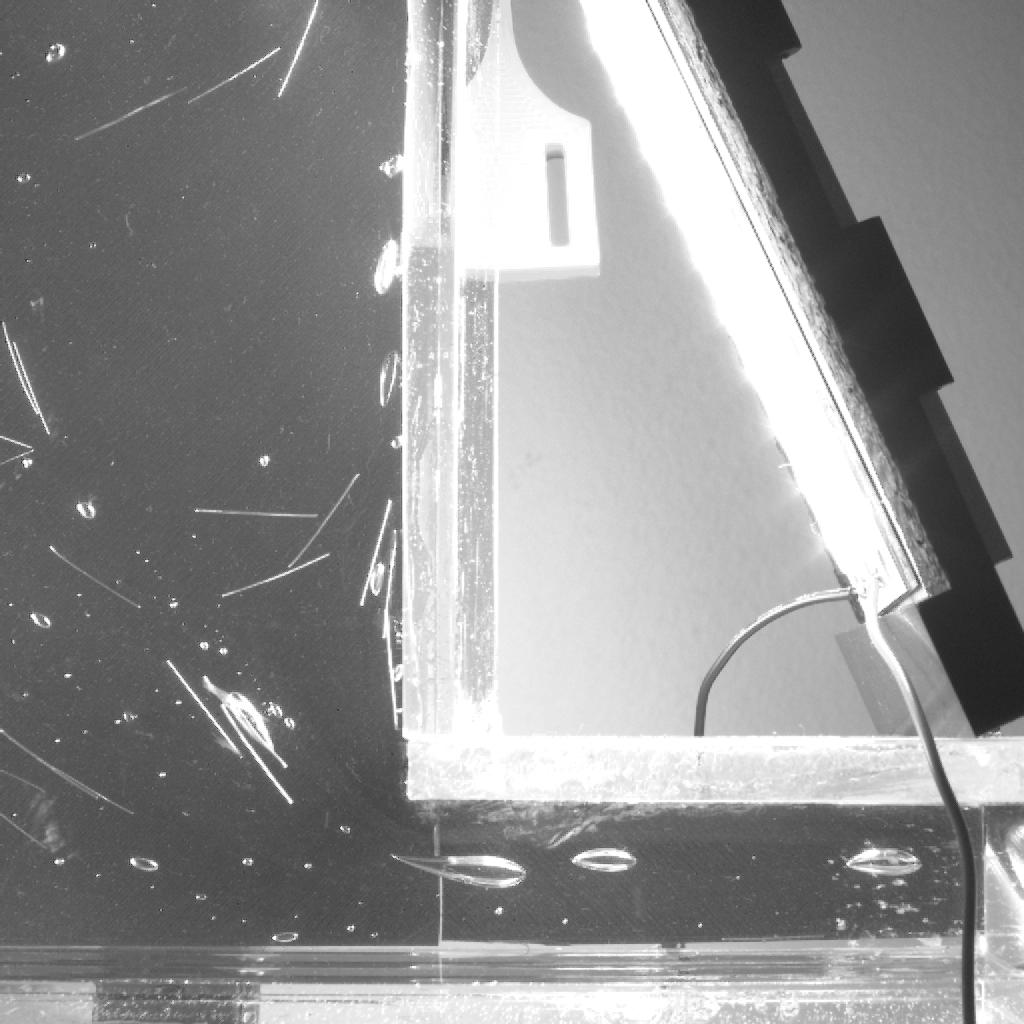Fiber: (198, 668, 289, 775), (161, 656, 248, 758), (218, 702, 301, 805), (1, 729, 104, 805), (287, 470, 362, 568), (75, 81, 194, 141), (29, 755, 139, 818), (48, 542, 144, 608), (215, 548, 334, 600), (187, 45, 280, 105), (271, 2, 320, 103), (10, 340, 53, 438), (357, 494, 393, 608), (0, 322, 38, 419), (378, 600, 402, 736), (380, 525, 402, 642), (719, 925, 829, 948), (1, 809, 49, 852), (191, 506, 315, 519), (0, 767, 48, 795), (0, 448, 34, 468), (1, 436, 35, 450)
